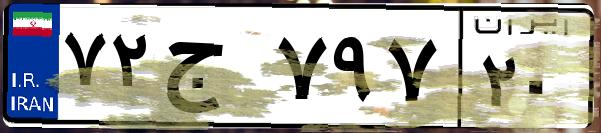0: (525, 38, 570, 115)
2: (475, 38, 525, 113), (110, 28, 158, 98)
7: (270, 28, 330, 110), (385, 28, 445, 110), (57, 26, 110, 100)
9: (330, 28, 385, 110)
ج: (158, 20, 270, 120)
